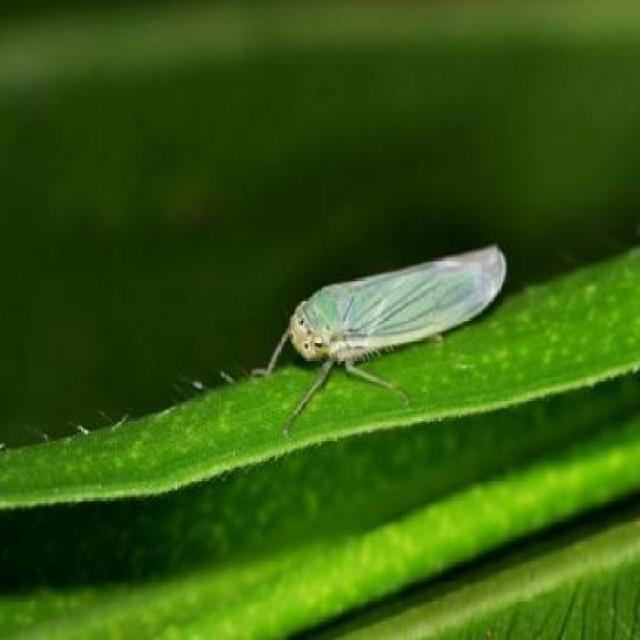green-leafhopper: (268, 244, 522, 418)
